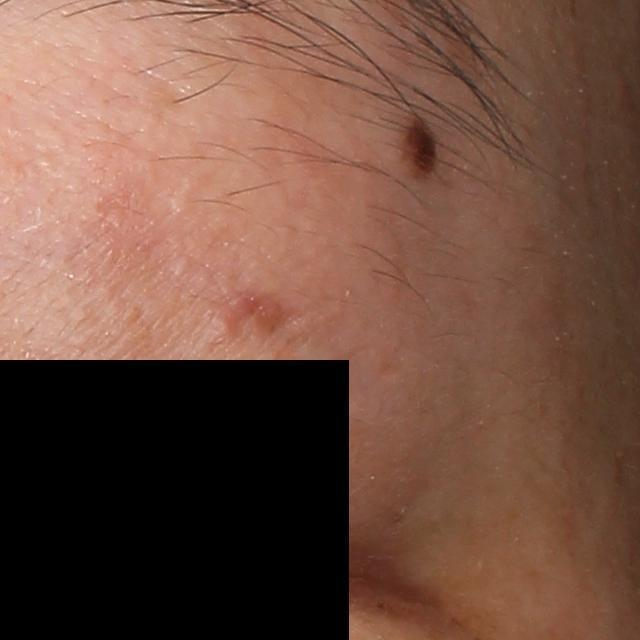nevus: (395, 101, 445, 192)
